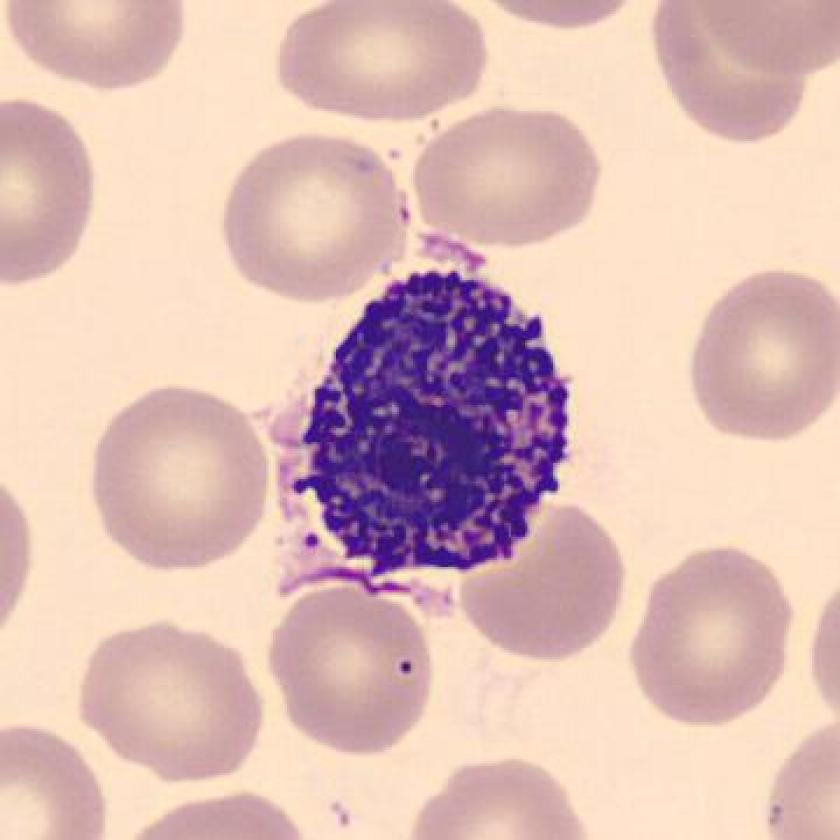basophil: (269, 265, 573, 600)
